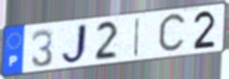2: (94, 19, 122, 63), (193, 10, 217, 51)
3: (30, 27, 54, 69)
C: (156, 10, 189, 56)
I: (132, 16, 142, 59)
J: (59, 22, 89, 66)
